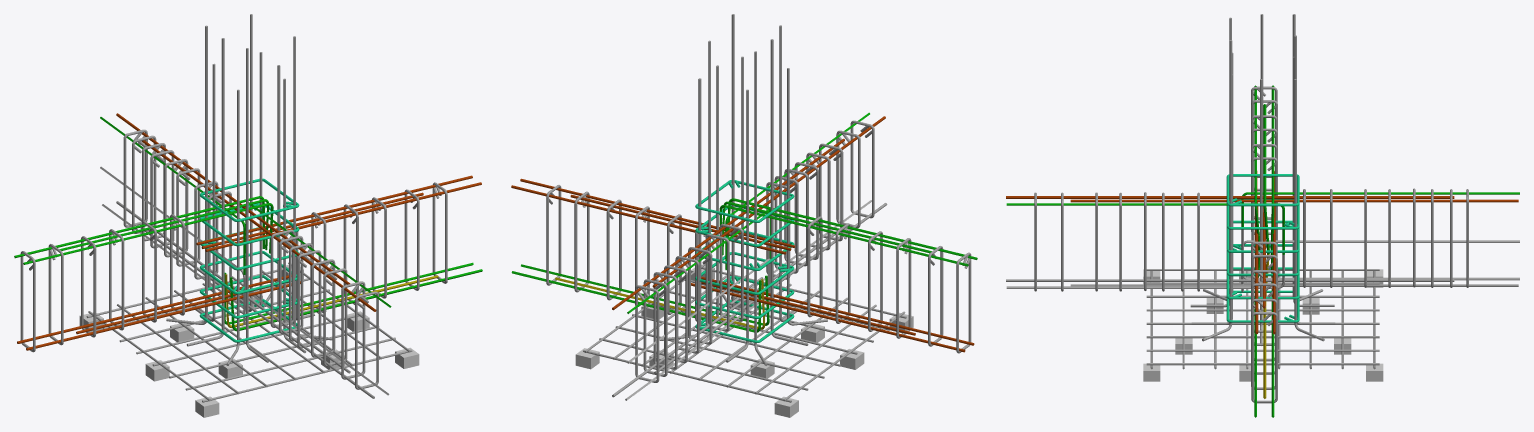
3 views of the same model, side by side, from view 1: azimuth 30°, elevation 25°; view 2: azimuth 150°, elevation 25°; view 3: azimuth 270°, elevation 25° (orthographic). The views are drawn at different scales.
Parts seen in each view (by area): view 1: _0-0__curve_.002_CU_0-0__curve_.005, _0-0__curve_.003_CU_0-0__curve_.004, _0-0__curve_.021_CU_0-0__curve_.026, _0-0__curve_.016_CU_0-0__curve_.021, _0-0__curve_.018_CU_0-0__curve_.023, _0-0__curve_.012_CU_0-0__curve_.016, _0-0__curve_.015_CU_0-0__curve_.020, _0-0__curve_.061_CU_0-0__curve_.069, _0-0__curve_.020_CU_0-0__curve_.025, _0-0__curve_.062_CU_0-0__curve_.070, _0-0__curve_.064_CU_0-0__curve_.072, _0-0__curve_.011_CU_0-0__curve_.015 (+49 smaller); view 2: _0-0__curve_.002_CU_0-0__curve_.005, _0-0__curve_.003_CU_0-0__curve_.004, _0-0__curve_.021_CU_0-0__curve_.026, _0-0__curve_.014_CU_0-0__curve_.019, _0-0__curve_.012_CU_0-0__curve_.016, _0-0__curve_.015_CU_0-0__curve_.020, _0-0__curve_.016_CU_0-0__curve_.021, _0-0__curve_.062_CU_0-0__curve_.070, _0-0__curve_.018_CU_0-0__curve_.023, _0-0__curve_.043_CU_0-0__curve_.048, _0-0__curve_.061_CU_0-0__curve_.069, _0-0__curve_.011_CU_0-0__curve_.015 (+51 smaller); view 3: _0-0__curve_.003_CU_0-0__curve_.004, _0-0__curve_.002_CU_0-0__curve_.005, _0-0__curve_.023_CU_0-0__curve_.028, _0-0__curve_.026_CU_0-0__curve_.030, _0-0__curve_.014_CU_0-0__curve_.019, _0-0__curve_.052_CU_0-0__curve_.060, _0-0__curve_.049_CU_0-0__curve_.058, _0-0__curve_.053_CU_0-0__curve_.061, _0-0__curve_.025_CU_0-0__curve_.031, _0-0__curve_.015_CU_0-0__curve_.020, _0-0__curve_.050_CU_0-0__curve_.059, _0-0__curve_.022_CU_0-0__curve_.027 (+13 smaller).
Part boxes in pixels (x1,y1,x2,y2): _0-0__curve_.002_CU_0-0__curve_.005: [86, 267, 412, 402]; _0-0__curve_.003_CU_0-0__curve_.004: [88, 262, 410, 401]; _0-0__curve_.021_CU_0-0__curve_.026: [186, 38, 224, 346]; _0-0__curve_.016_CU_0-0__curve_.021: [246, 48, 268, 362]; _0-0__curve_.018_CU_0-0__curve_.023: [192, 63, 215, 321]; _0-0__curve_.012_CU_0-0__curve_.016: [166, 25, 207, 324]; _0-0__curve_.015_CU_0-0__curve_.020: [259, 52, 270, 307]; _0-0__curve_.061_CU_0-0__curve_.069: [26, 281, 300, 350]; _0-0__curve_.020_CU_0-0__curve_.025: [277, 65, 314, 322]; _0-0__curve_.062_CU_0-0__curve_.070: [17, 275, 291, 343]; _0-0__curve_.064_CU_0-0__curve_.072: [196, 175, 472, 245]; _0-0__curve_.011_CU_0-0__curve_.015: [226, 89, 239, 365]; _0-0__curve_.002_CU_0-0__curve_.005: [583, 267, 906, 402]; _0-0__curve_.003_CU_0-0__curve_.004: [584, 263, 905, 401]; _0-0__curve_.021_CU_0-0__curve_.026: [770, 39, 808, 345]; _0-0__curve_.014_CU_0-0__curve_.019: [722, 14, 734, 308]; _0-0__curve_.012_CU_0-0__curve_.016: [754, 51, 767, 365]; _0-0__curve_.015_CU_0-0__curve_.020: [660, 78, 701, 340]; _0-0__curve_.016_CU_0-0__curve_.021: [779, 25, 801, 321]; _0-0__curve_.062_CU_0-0__curve_.070: [691, 283, 965, 352]; _0-0__curve_.018_CU_0-0__curve_.023: [726, 89, 748, 362]; _0-0__curve_.043_CU_0-0__curve_.048: [635, 285, 659, 382]; _0-0__curve_.061_CU_0-0__curve_.069: [701, 276, 974, 345]; _0-0__curve_.011_CU_0-0__curve_.015: [787, 68, 827, 325]; _0-0__curve_.003_CU_0-0__curve_.004: [1146, 269, 1379, 365]; _0-0__curve_.002_CU_0-0__curve_.005: [1150, 271, 1375, 369]; _0-0__curve_.023_CU_0-0__curve_.028: [1070, 199, 1518, 202]; _0-0__curve_.026_CU_0-0__curve_.030: [1006, 196, 1454, 198]; _0-0__curve_.014_CU_0-0__curve_.019: [1202, 40, 1232, 341]; _0-0__curve_.052_CU_0-0__curve_.060: [1006, 279, 1454, 281]; _0-0__curve_.049_CU_0-0__curve_.058: [1070, 284, 1518, 286]; _0-0__curve_.053_CU_0-0__curve_.061: [1241, 229, 1519, 280]; _0-0__curve_.025_CU_0-0__curve_.031: [1241, 192, 1519, 226]; _0-0__curve_.015_CU_0-0__curve_.020: [1294, 79, 1324, 341]; _0-0__curve_.050_CU_0-0__curve_.059: [1006, 254, 1284, 288]; _0-0__curve_.022_CU_0-0__curve_.027: [1006, 203, 1284, 254].
Bounding box in the file's own units: 2.98 × 1.96 × 3.
